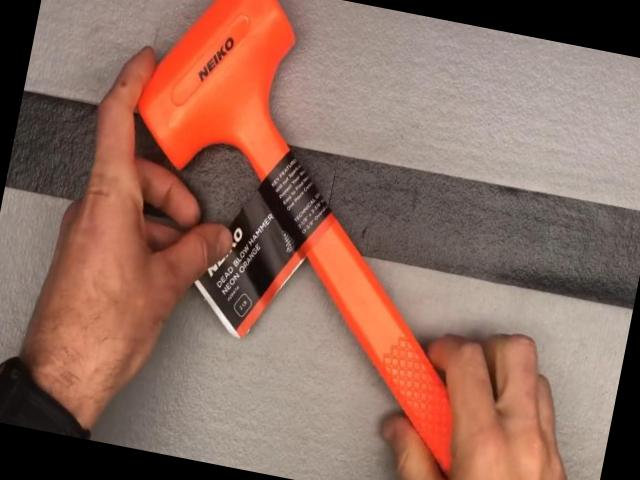hammer: (71, 0, 618, 480)
